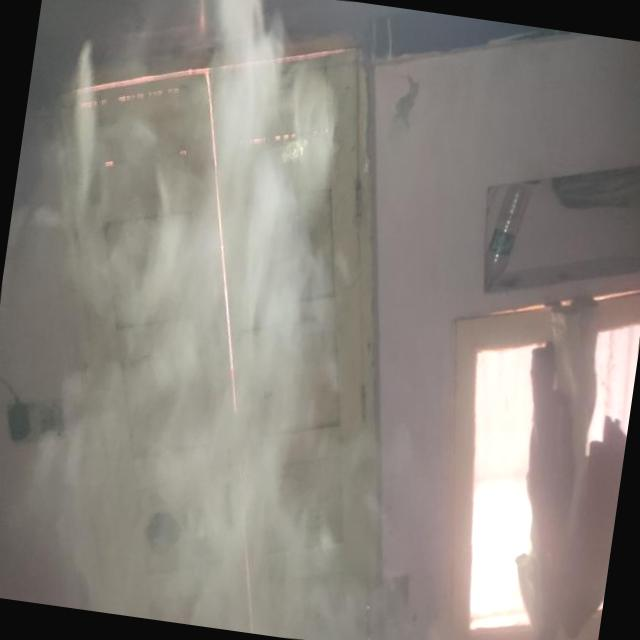smoke: (20, 1, 345, 488)
